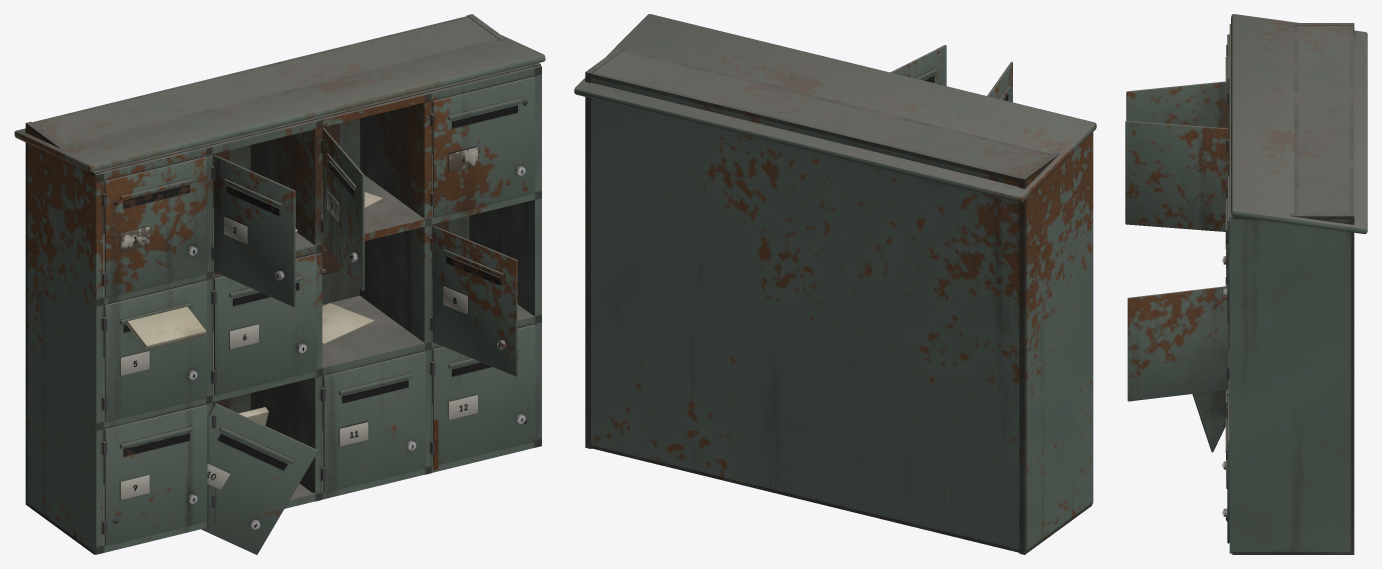
The model's file is SM_Mailboxes_Block.fbx.
3 renders of one model, left to right at view 1: azimuth 30°, elevation 25°; view 2: azimuth 150°, elevation 25°; view 3: azimuth 270°, elevation 25°, orthographic. The views are drawn at different scales.
Parts seen in each view (by area): view 1: SM_Mailboxes_Block; view 2: SM_Mailboxes_Block; view 3: SM_Mailboxes_Block.
Part boxes in pixels (left/top/right/bottom): SM_Mailboxes_Block: left=14, top=14, right=545, bottom=554; SM_Mailboxes_Block: left=574, top=14, right=1096, bottom=554; SM_Mailboxes_Block: left=1125, top=14, right=1367, bottom=554.
Size of the model in its own units: 0.78 by 0.6843 by 0.4046.
Materials: 1 (1 with a texture image).
